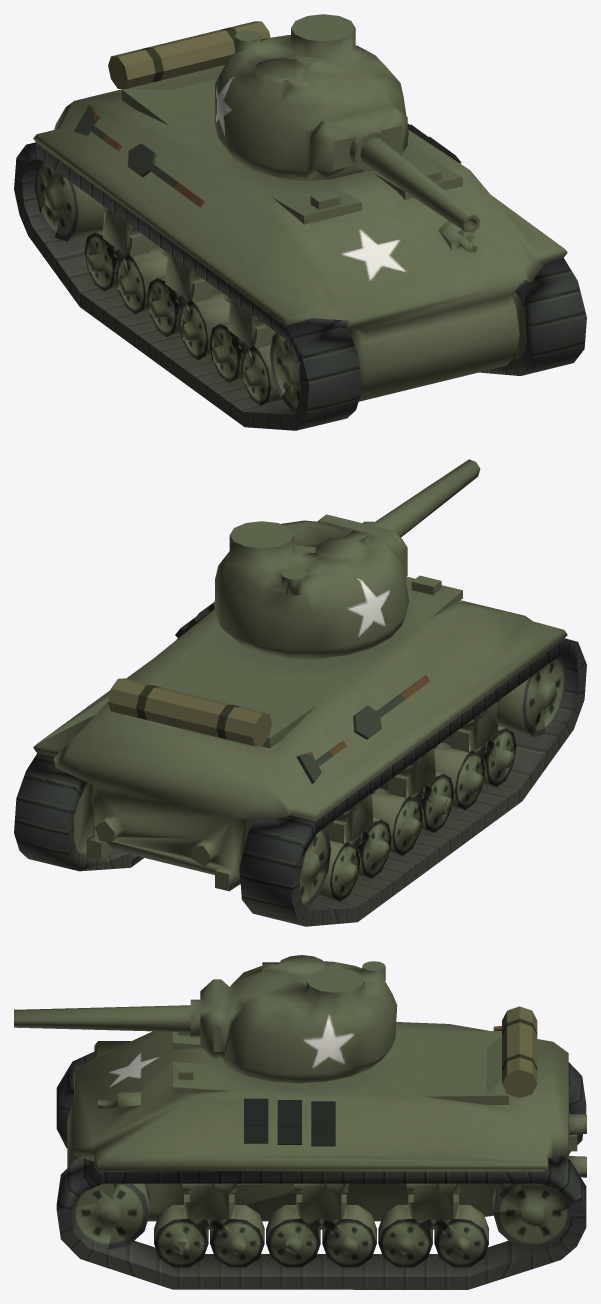
The model's file is usa_bishop.glb.
3 views of the same model, one above another, from view 1: azimuth 30°, elevation 25°; view 2: azimuth 150°, elevation 25°; view 3: azimuth 270°, elevation 25° (orthographic). The views are drawn at different scales.
Parts seen in each view (by area): view 1: Rook_LOD0_Chassis_WW2, Rook_LOD0_Turret_WW2; view 2: Rook_LOD0_Chassis_WW2, Rook_LOD0_Turret_WW2; view 3: Rook_LOD0_Chassis_WW2, Rook_LOD0_Turret_WW2.
Part boxes in pixels (<box>): Rook_LOD0_Chassis_WW2: <box>14,21,586,430</box>; Rook_LOD0_Turret_WW2: <box>214,14,480,232</box>; Rook_LOD0_Chassis_WW2: <box>14,575,586,926</box>; Rook_LOD0_Turret_WW2: <box>214,459,480,658</box>; Rook_LOD0_Chassis_WW2: <box>56,1006,586,1289</box>; Rook_LOD0_Turret_WW2: <box>14,955,397,1083</box>.
Size of the model in its own units: 1.02 by 1 by 1.98.
1 material, 1 textured.
